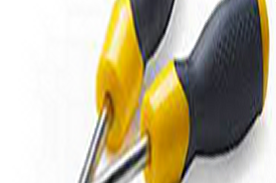Screwdriver: (83, 1, 244, 183)
